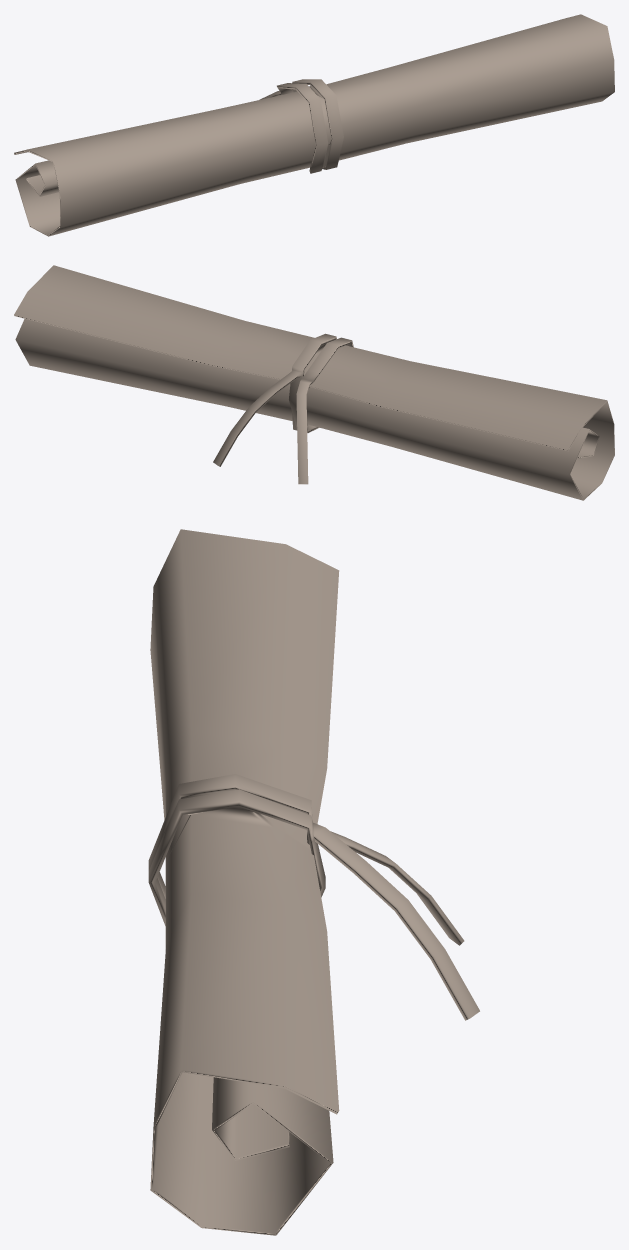
Rendered from Scroll.fbx.
3 renders of one model, top to bottom at view 1: azimuth 30°, elevation 25°; view 2: azimuth 150°, elevation 25°; view 3: azimuth 270°, elevation 25°, orthographic. The views are drawn at different scales.
Parts seen in each view (by area): view 1: polySurface21; view 2: polySurface21; view 3: polySurface21.
Part boxes in pixels (bbox=[...]): polySurface21: bbox=[14, 14, 614, 236]; polySurface21: bbox=[14, 265, 614, 500]; polySurface21: bbox=[148, 529, 479, 1235].
Size of the model in its own units: 29.38 by 4.76 by 7.62.
